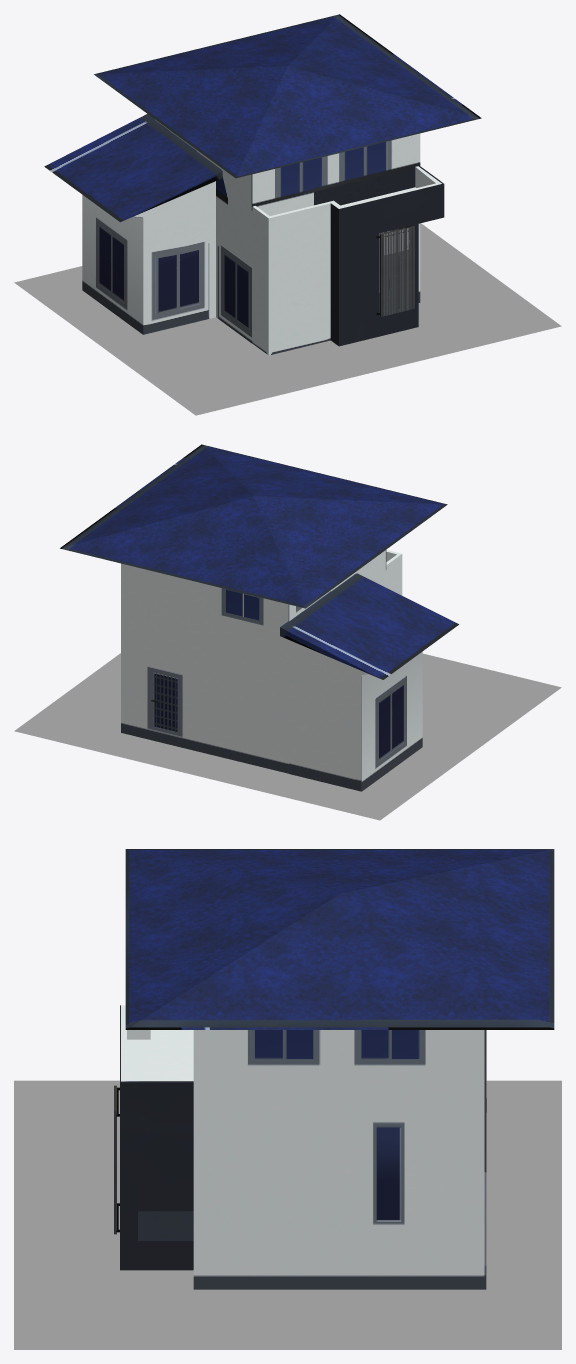
3 renders of one model, top to bottom at view 1: azimuth 30°, elevation 25°; view 2: azimuth 150°, elevation 25°; view 3: azimuth 270°, elevation 25°, orthographic. The views are drawn at different scales.
Visible parts, largest first — view 1: polySurface219; view 2: polySurface219; view 3: polySurface219.
Part boxes in pixels (x1=…): polySurface219: x1=14, y1=14, x2=561, y2=415; polySurface219: x1=14, y1=444, x2=561, y2=820; polySurface219: x1=14, y1=849, x2=561, y2=1349.
Size of the model in its own units: 18.26 by 10.96 by 15.71.
7 materials, 6 textured.
